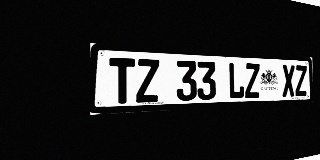3: (176, 60, 197, 101), (197, 61, 216, 100)
L: (228, 62, 244, 99)
T: (109, 57, 135, 104)
X: (282, 65, 295, 97)
Z: (136, 59, 159, 103), (245, 63, 260, 98), (295, 65, 307, 96)
